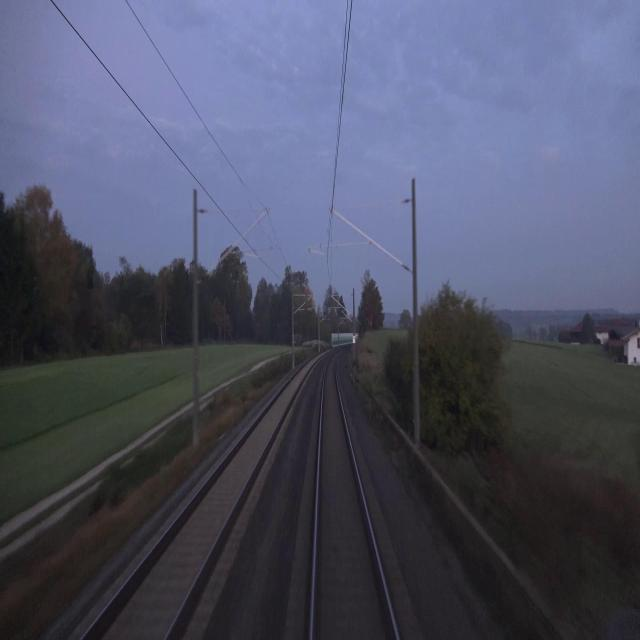rail-track: (85, 361, 311, 639), (313, 355, 395, 639)
